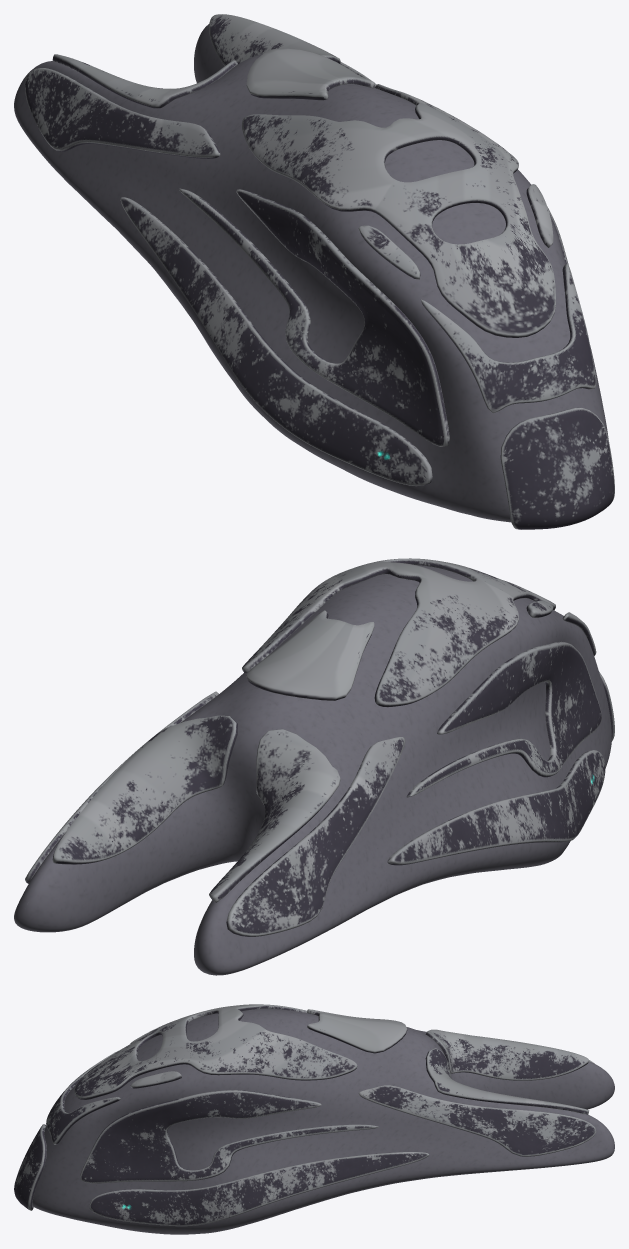
3 renders of one model, top to bottom at view 1: azimuth 30°, elevation 25°; view 2: azimuth 150°, elevation 25°; view 3: azimuth 270°, elevation 25°, orthographic. The views are drawn at different scales.
Parts seen in each view (by area): view 1: UFO_2; view 2: UFO_2; view 3: UFO_2.
Boxes of the visible parts, <box> form: UFO_2: <box>14,14,614,529</box>; UFO_2: <box>14,558,614,975</box>; UFO_2: <box>14,1004,614,1234</box>.
Size of the model in its own units: 3.06 by 2.8 by 7.73.
1 material, 1 textured.
